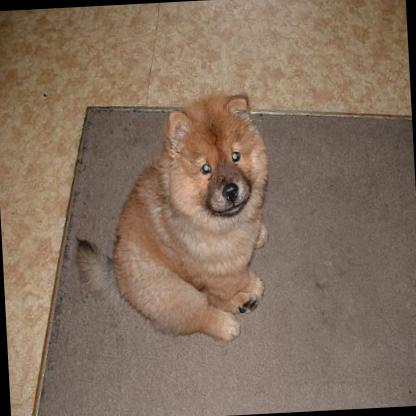chow: (60, 86, 278, 352)
